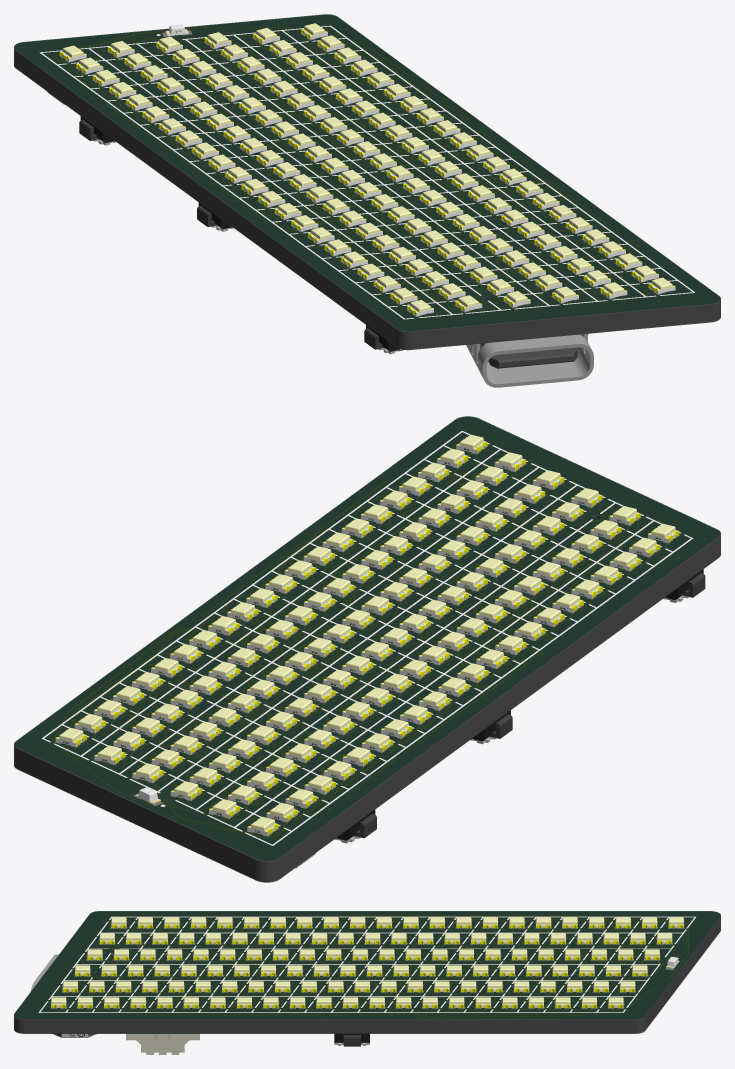
The model's file is board.glb.
The picture shows the model from 3 angles, top to bottom: view 1: azimuth 30°, elevation 25°; view 2: azimuth 150°, elevation 25°; view 3: azimuth 270°, elevation 25°; orthographic projection. The views are drawn at different scales.
Parts seen in each view (by area): view 1: parallelogram_soldermask (×2), parallelogram_PCB, parallelogram_silkscreen, USB-C-SMD_TYPE-C-31-M-22, parallelogram_pad, parallelogram_copper; view 2: parallelogram_soldermask (×2), parallelogram_PCB, parallelogram_silkscreen, parallelogram_copper, parallelogram_pad; view 3: parallelogram_soldermask (×2), parallelogram_PCB, parallelogram_silkscreen, parallelogram_pad, Molex_PicoBlade_53261-0271_1x02-1MP_P1.25mm_Horizontal, parallelogram_copper, SW-SMD_EVQP7C01P-L3.6-W3.5-H1.4-P3.6-LS4.7.
Part boxes in pixels (<box>): parallelogram_soldermask (×2): <box>14,14,720,350</box>; parallelogram_PCB: <box>14,15,720,349</box>; parallelogram_silkscreen: <box>39,25,694,319</box>; USB-C-SMD_TYPE-C-31-M-22: <box>466,333,593,387</box>; parallelogram_pad: <box>59,30,675,316</box>; parallelogram_copper: <box>46,27,659,323</box>; parallelogram_soldermask (×2): <box>14,416,720,882</box>; parallelogram_PCB: <box>14,417,720,881</box>; parallelogram_silkscreen: <box>42,431,693,845</box>; parallelogram_copper: <box>52,442,705,840</box>; parallelogram_pad: <box>55,446,679,836</box>; parallelogram_soldermask (×2): <box>14,911,720,1033</box>; parallelogram_PCB: <box>14,912,720,1033</box>; parallelogram_silkscreen: <box>38,916,695,1012</box>; parallelogram_pad: <box>50,921,684,1008</box>; Molex_PicoBlade_53261-0271_1x02-1MP_P1.25mm_Horizontal: <box>126,1034,199,1054</box>; parallelogram_copper: <box>39,914,688,1017</box>; SW-SMD_EVQP7C01P-L3.6-W3.5-H1.4-P3.6-LS4.7: <box>334,1034,369,1046</box>.
Bounding box in the file's own units: 0.0259 × 0.00568 × 0.0693.
